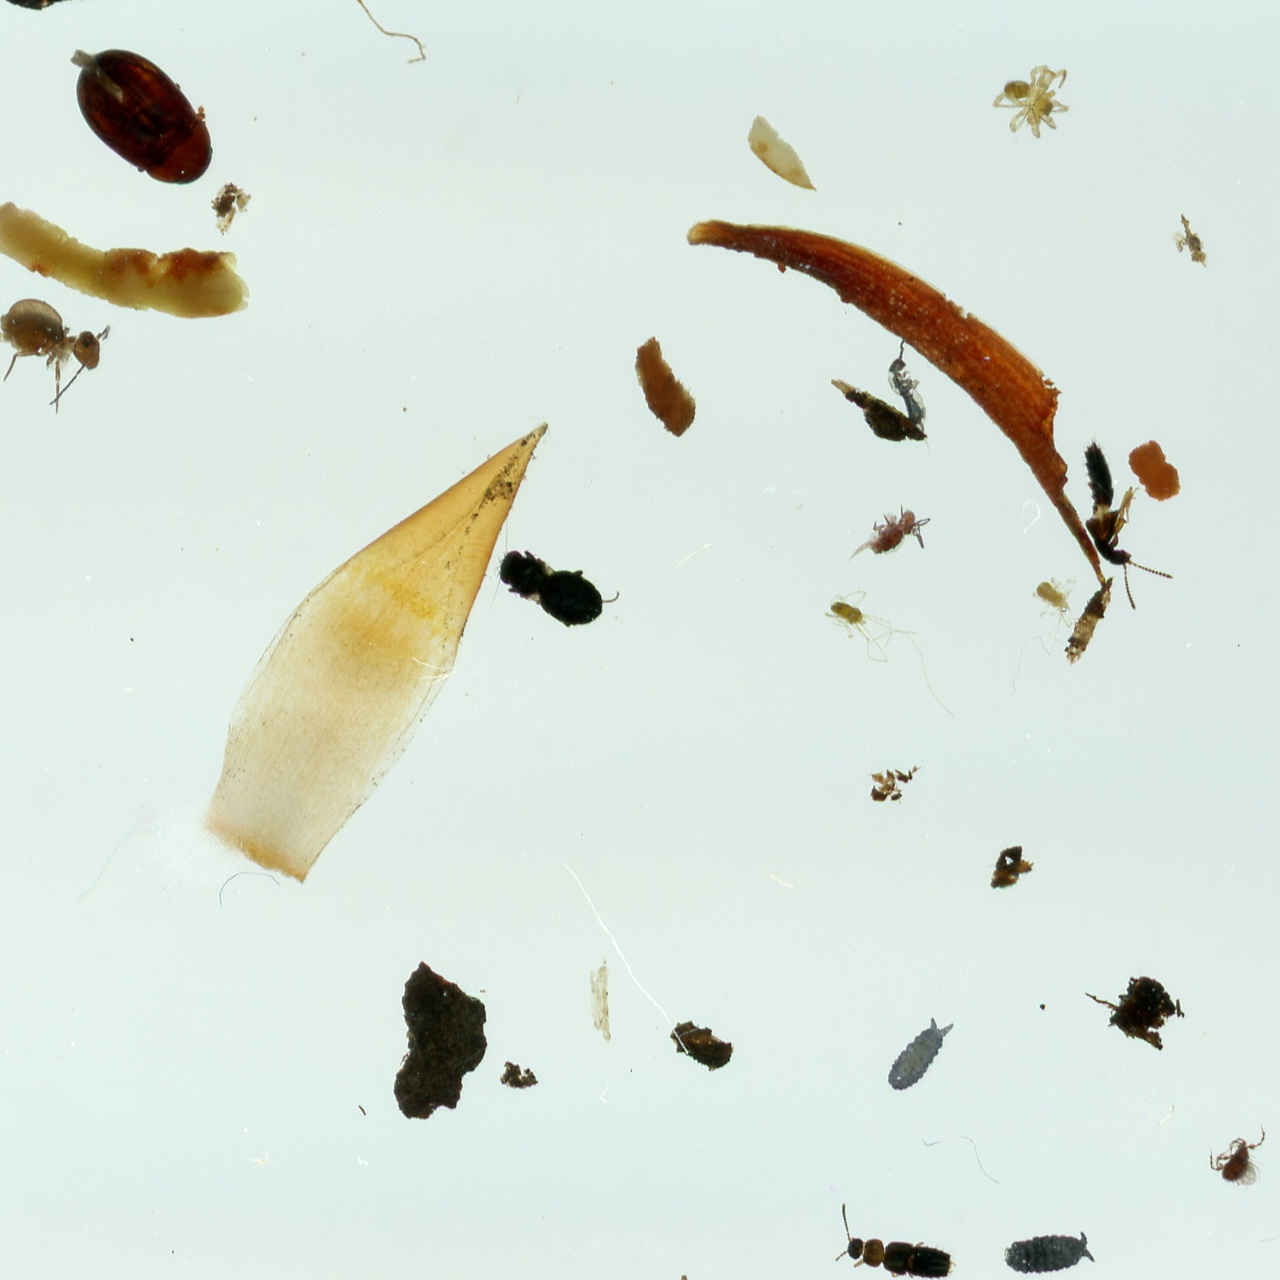arthropod: (66, 45, 217, 189), (824, 590, 956, 717), (1084, 440, 1176, 611), (0, 294, 111, 410), (497, 537, 622, 628), (835, 1201, 956, 1280), (1010, 577, 1078, 692), (993, 63, 1069, 141), (887, 1016, 954, 1091), (850, 502, 932, 563), (890, 334, 928, 433), (1003, 1233, 1096, 1274), (1210, 1125, 1266, 1187), (0, 0, 111, 8)
